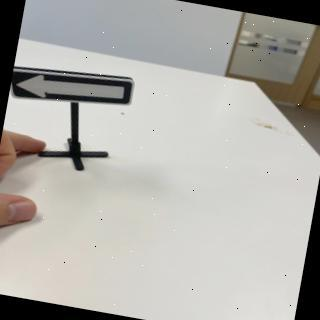sign_oneway_left: (10, 57, 137, 120)
